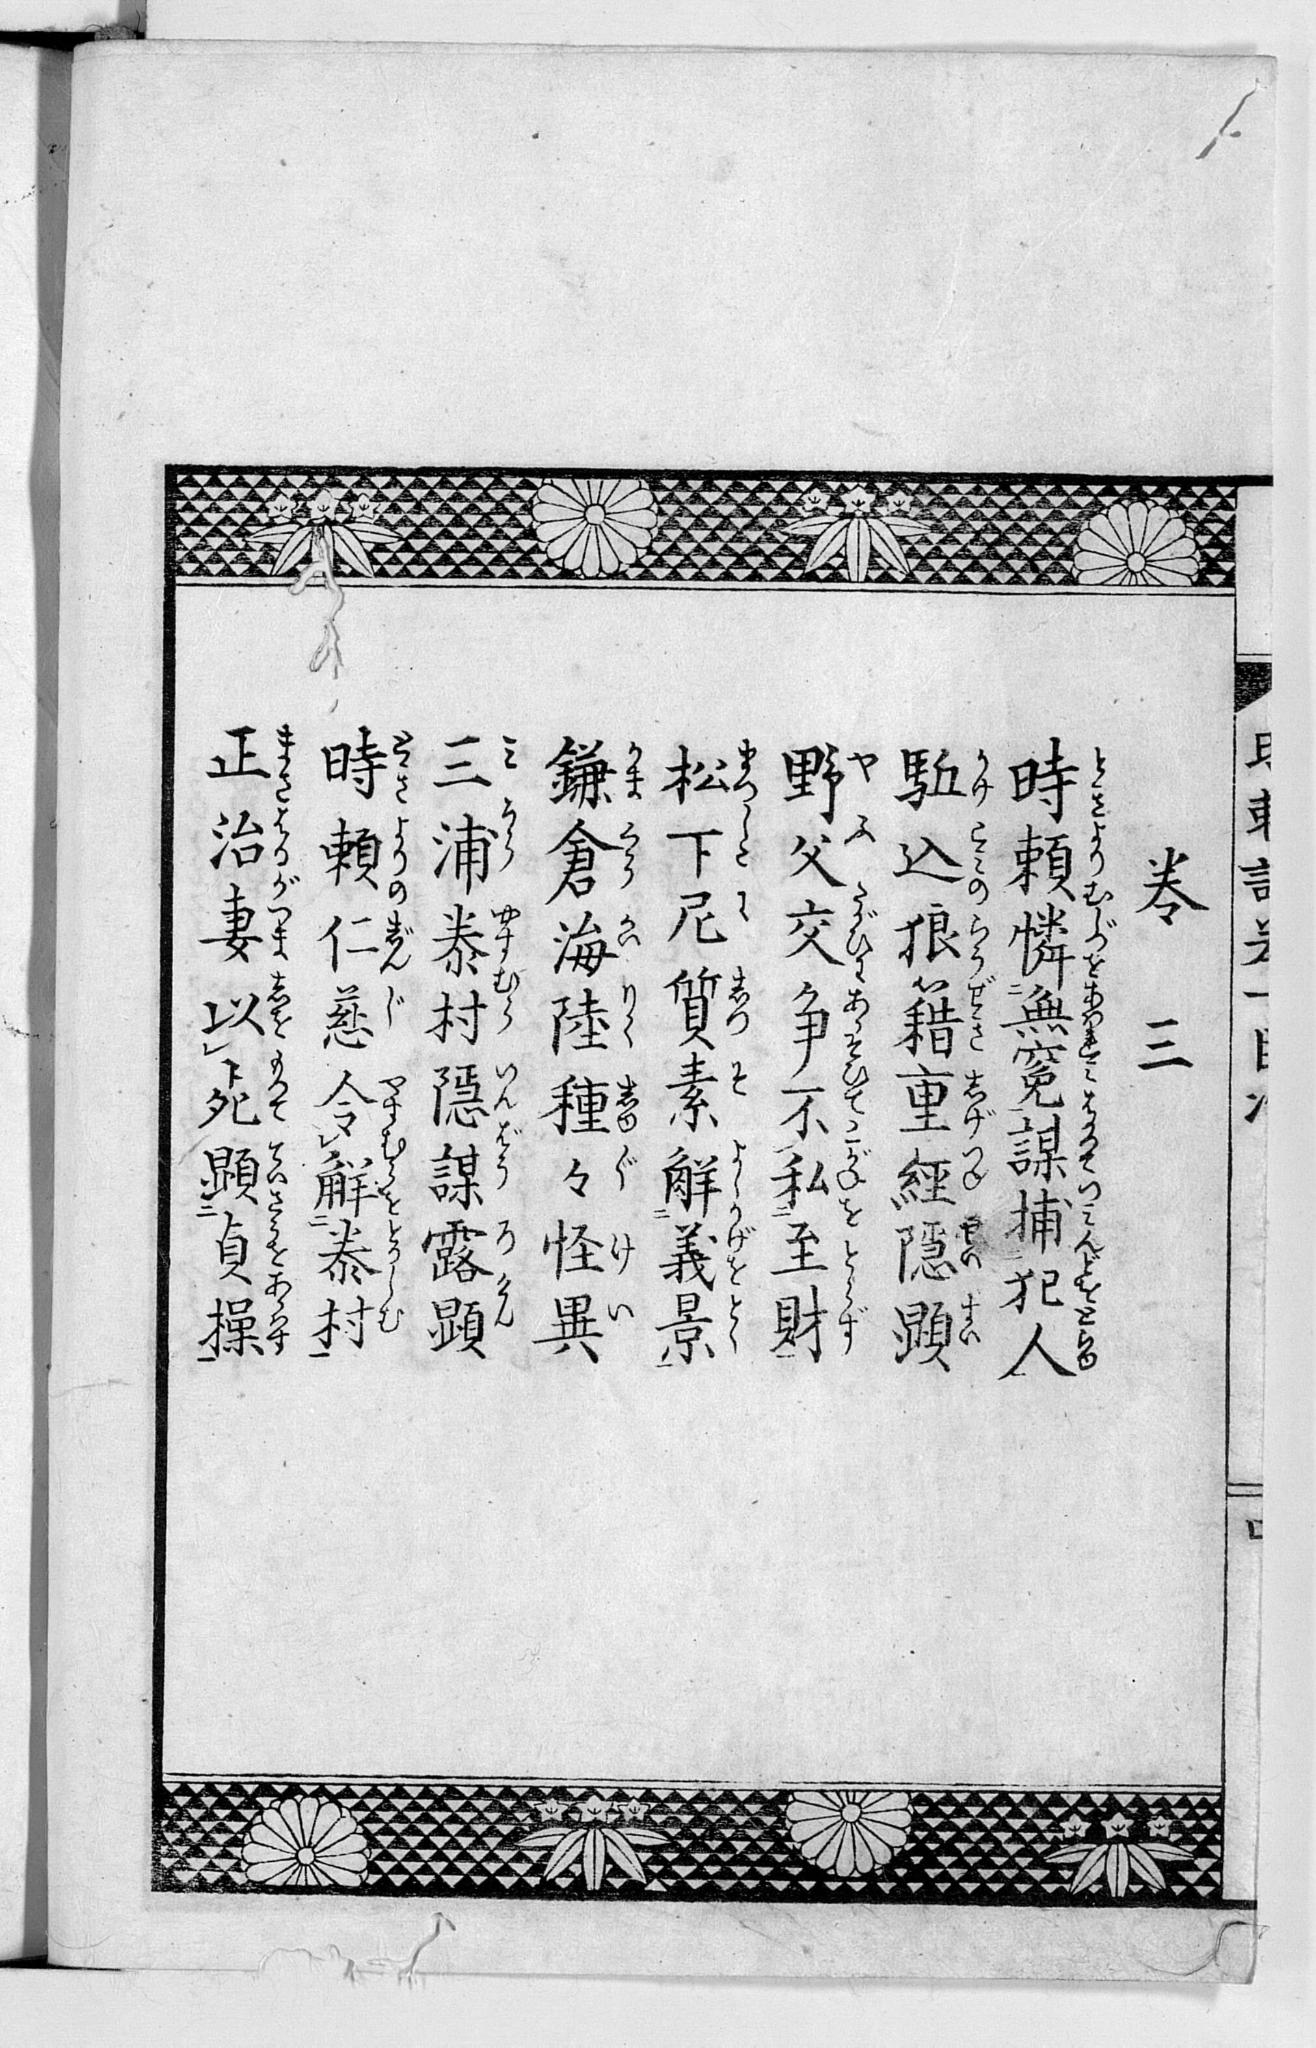MainZone-Character: (767, 885, 883, 982), (1003, 730, 1118, 822), (201, 803, 307, 903), (655, 958, 762, 1054), (406, 1273, 516, 1364), (315, 812, 419, 908), (425, 793, 528, 888), (771, 1278, 877, 1370), (1009, 819, 1124, 905), (888, 815, 992, 905), (188, 1193, 292, 1282), (537, 818, 645, 905), (888, 1058, 1001, 1139), (197, 1269, 292, 1364), (782, 984, 876, 1081), (885, 1287, 983, 1378), (543, 730, 648, 815), (298, 1212, 407, 1293), (310, 1075, 410, 1161), (536, 1294, 649, 1370), (897, 972, 998, 1055), (191, 1045, 291, 1128), (422, 969, 524, 1051), (195, 885, 301, 963), (776, 734, 883, 811), (777, 811, 880, 890), (1000, 1040, 1110, 1114), (773, 1197, 876, 1275), (1007, 905, 1113, 979), (649, 1134, 751, 1212), (419, 899, 527, 972), (1000, 1306, 1112, 1376), (892, 733, 1000, 805), (885, 1209, 989, 1282), (536, 1215, 642, 1287), (891, 908, 1001, 976), (200, 966, 298, 1042), (430, 1123, 516, 1209), (659, 1211, 755, 1288), (321, 727, 412, 808), (306, 1291, 403, 1366), (204, 722, 298, 799), (659, 733, 761, 803), (888, 1140, 991, 1209), (661, 1055, 752, 1133), (1007, 1179, 1106, 1251), (543, 908, 643, 978), (424, 1215, 519, 1288), (1007, 1112, 1109, 1181), (657, 1294, 748, 1370), (316, 912, 415, 982), (425, 1055, 519, 1128), (549, 981, 643, 1054), (315, 984, 409, 1057), (671, 805, 761, 881), (1007, 976, 1109, 1042), (543, 1070, 642, 1137), (191, 1140, 295, 1203), (436, 722, 522, 796), (771, 1146, 877, 1206), (671, 887, 759, 958), (307, 1154, 410, 1214), (1009, 1251, 1110, 1311), (777, 1079, 870, 1142), (549, 1146, 640, 1206)
MainZone-Ruby: (837, 1240, 874, 1351), (845, 885, 879, 981), (267, 808, 303, 899), (1079, 822, 1116, 903), (839, 985, 868, 1079), (965, 973, 997, 1057), (488, 969, 525, 1039), (373, 1076, 406, 1154), (959, 1069, 995, 1136), (264, 1267, 291, 1355), (380, 911, 415, 979), (1071, 1182, 1104, 1254), (492, 1121, 525, 1193), (486, 903, 524, 963), (724, 1214, 756, 1281), (1082, 911, 1116, 975), (1083, 742, 1112, 818), (965, 819, 991, 905), (386, 728, 415, 803), (725, 963, 753, 1036), (730, 740, 761, 806), (494, 799, 521, 875), (389, 814, 410, 906), (836, 1085, 870, 1140), (1074, 1045, 1104, 1108), (263, 902, 294, 961), (834, 1145, 873, 1193), (273, 724, 295, 805), (264, 972, 291, 1037), (967, 742, 994, 806), (264, 1049, 288, 1121), (621, 733, 642, 814), (612, 1072, 639, 1134), (491, 1057, 519, 1115), (616, 821, 640, 890), (266, 1190, 286, 1267), (1073, 1309, 1100, 1369), (604, 1221, 636, 1272), (613, 981, 637, 1046), (375, 1160, 406, 1209), (1074, 1115, 1101, 1170), (1073, 1255, 1104, 1302), (955, 1215, 980, 1272), (731, 809, 755, 869), (1079, 982, 1106, 1034), (967, 914, 992, 969), (727, 1140, 749, 1202), (956, 1288, 980, 1345), (379, 982, 407, 1030), (722, 1293, 743, 1357), (261, 1140, 291, 1185), (610, 1148, 639, 1194), (612, 912, 642, 954), (833, 1199, 871, 1230), (849, 740, 879, 781), (382, 1215, 398, 1288), (843, 812, 876, 848), (961, 1146, 988, 1190), (372, 1297, 398, 1339), (494, 1278, 513, 1331), (724, 1063, 751, 1100), (497, 722, 516, 772), (497, 1218, 519, 1260), (603, 1299, 633, 1326), (734, 891, 753, 927)
